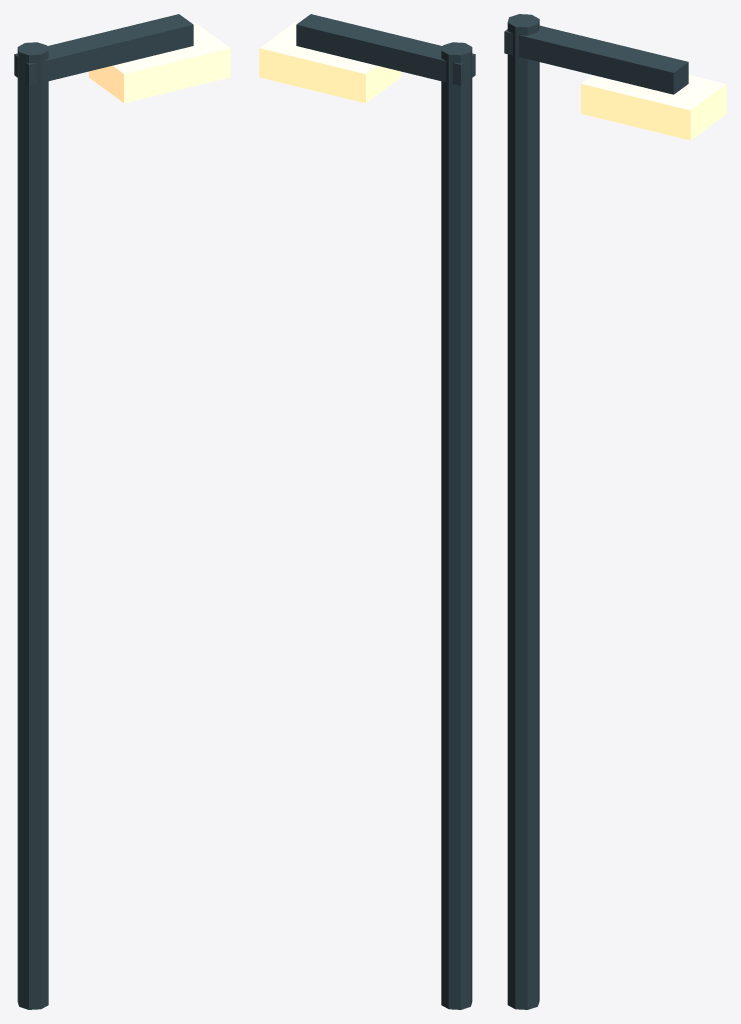
File: lamp_lod.glb
3 views of the same model, side by side, from view 1: azimuth 30°, elevation 25°; view 2: azimuth 150°, elevation 25°; view 3: azimuth 330°, elevation 25° (orthographic). The views are drawn at different scales.
Visible parts, largest first — view 1: lamp_Lamp_Post, lamp_Lamp_Arm, lamp_Lamp_Lantern; view 2: lamp_Lamp_Post, lamp_Lamp_Arm, lamp_Lamp_Lantern; view 3: lamp_Lamp_Post, lamp_Lamp_Lantern, lamp_Lamp_Arm.
Part boxes in pixels (left/top/right/bottom): lamp_Lamp_Post: left=17, top=42, right=48, bottom=1009; lamp_Lamp_Arm: left=14, top=14, right=193, bottom=85; lamp_Lamp_Lantern: left=89, top=22, right=230, bottom=103; lamp_Lamp_Post: left=441, top=42, right=472, bottom=1009; lamp_Lamp_Arm: left=296, top=14, right=475, bottom=85; lamp_Lamp_Lantern: left=259, top=22, right=400, bottom=103; lamp_Lamp_Post: left=507, top=14, right=539, bottom=1009; lamp_Lamp_Lantern: left=581, top=75, right=726, bottom=140; lamp_Lamp_Arm: left=504, top=25, right=688, bottom=94.
Bounding box in the file's own units: 0.765 × 3.6 × 0.24.
